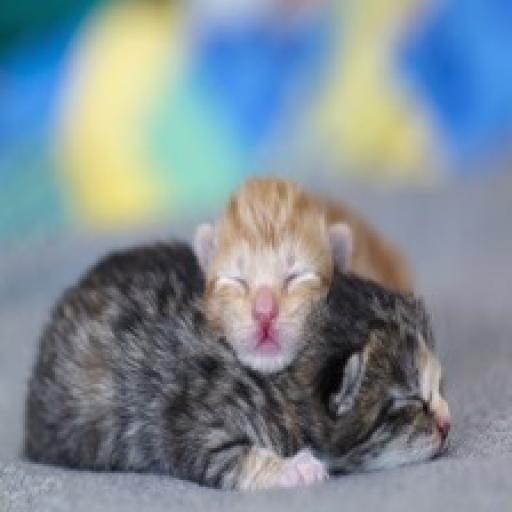cat: (23, 237, 453, 495), (188, 177, 410, 367)
